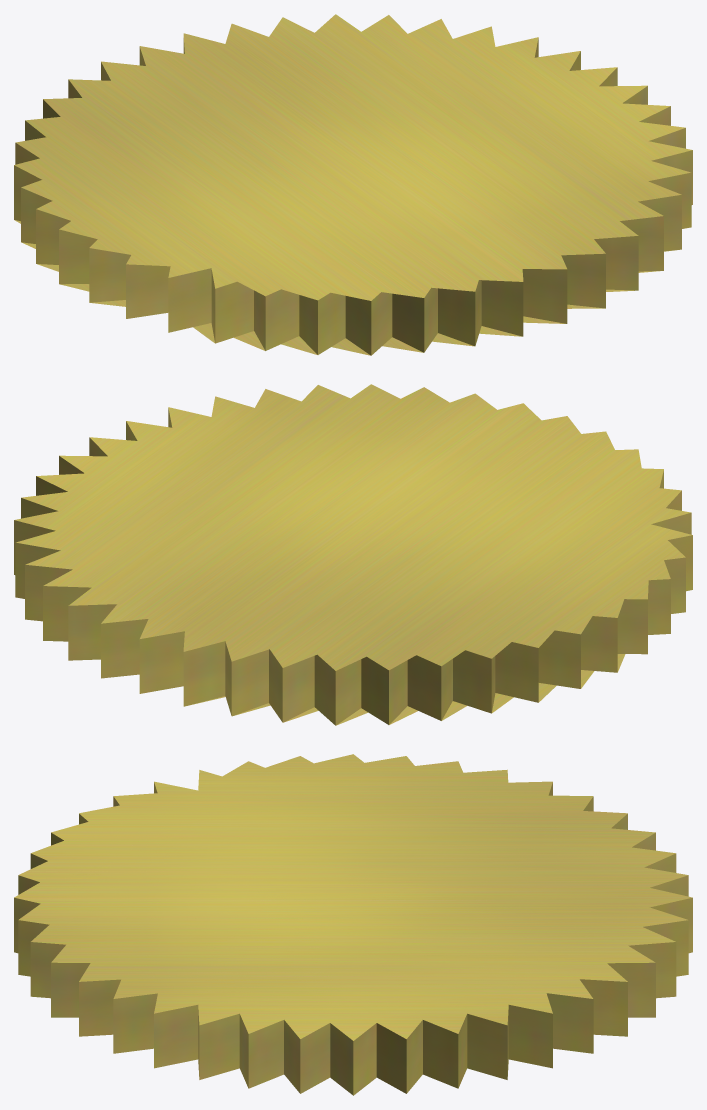
File: ClockStraight5Spoke040.fbx
The picture shows the model from 3 angles, top to bottom: view 1: azimuth 30°, elevation 25°; view 2: azimuth 150°, elevation 25°; view 3: azimuth 270°, elevation 25°; orthographic projection.
Parts seen in each view (by area): view 1: ClockStraight5Spoke040; view 2: ClockStraight5Spoke040; view 3: ClockStraight5Spoke040.
Part boxes in pixels (x1,y1,x2,y2): ClockStraight5Spoke040: (14,14,692,355); ClockStraight5Spoke040: (14,384,692,725); ClockStraight5Spoke040: (14,754,692,1095).
Bounding box in the file's own units: 221 × 19.69 × 221.
